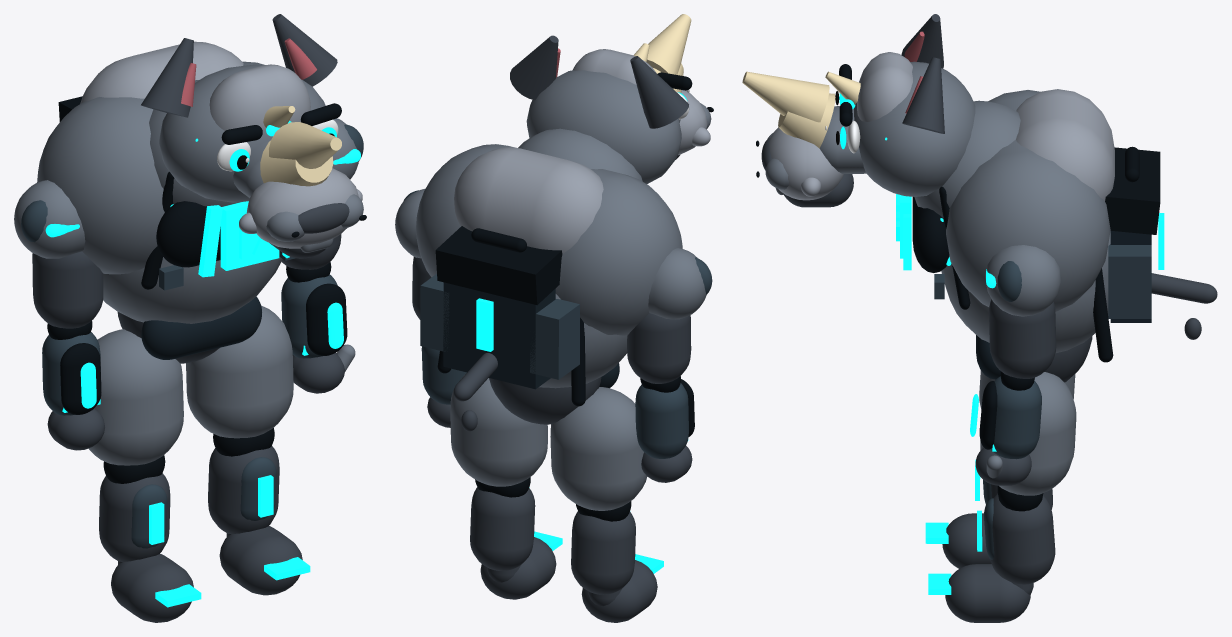
Rendered from rhino3d-v0.9.1.glb.
The picture shows the model from 3 angles, left to right: view 1: azimuth 30°, elevation 25°; view 2: azimuth 150°, elevation 25°; view 3: azimuth 270°, elevation 25°; orthographic projection. The views are drawn at different scales.
Parts seen in each view (by area): view 1: ShoulderLine, Thigh2, Thigh, RibCage, Cranium, ForeheadMass, UpperArm, ShoulderHump, MuzzleMain, PelvisArmor, Foot2, Foot (+43 smaller); view 2: ShoulderLine, ShoulderHump, Cranium, Thigh, PackBody, Thigh2, PackFlap, LowerLeg2, LowerLeg, UpperArm, ForeArm, PackPocketL (+23 smaller); view 3: ShoulderLine, Cranium, ShoulderHump, LowerLeg2, Thigh2, UpperArm2, Foot2, PackFlap, Neck, RibCage, Shoulder2, PackPocketR (+19 smaller).
Part boxes in pixels (x1,y1,x2,y2): ShoulderLine: (37,61,265,274); Thigh2: (186,305,293,438); Thigh: (88,329,183,465); RibCage: (103,250,282,323); Cranium: (159,64,325,202); ForeheadMass: (209,64,310,134); UpperArm: (32,251,103,328); ShoulderHump: (80,41,243,103); MuzzleMain: (246,168,358,248); PelvisArmor: (141,296,261,359); Foot2: (219,526,302,595); Foot: (111,554,193,622); ShoulderLine: (416,144,682,335); ShoulderHump: (454,147,603,254); Cranium: (526,70,681,183); Thigh: (550,387,647,510); PackBody: (443,282,555,389); Thigh2: (450,374,547,486); PackFlap: (435,226,562,305); LowerLeg2: (470,487,535,570); LowerLeg: (571,511,635,594); UpperArm: (627,313,691,383); ForeArm: (635,383,688,458); PackPocketL: (530,299,579,379); ShoulderLine: (946,90,1110,311); Cranium: (854,61,975,196); ShoulderHump: (1016,89,1114,200); LowerLeg2: (990,494,1055,584); Thigh2: (980,372,1076,495); UpperArm2: (989,299,1056,378); Foot2: (945,564,1030,622); PackFlap: (1105,147,1160,234); Neck: (914,100,1020,218); RibCage: (941,231,1110,353); Shoulder2: (985,245,1061,316); PackPocketR: (1108,244,1151,318).
Bounding box in the file's own units: 1.6 × 2.68 × 2.07.
